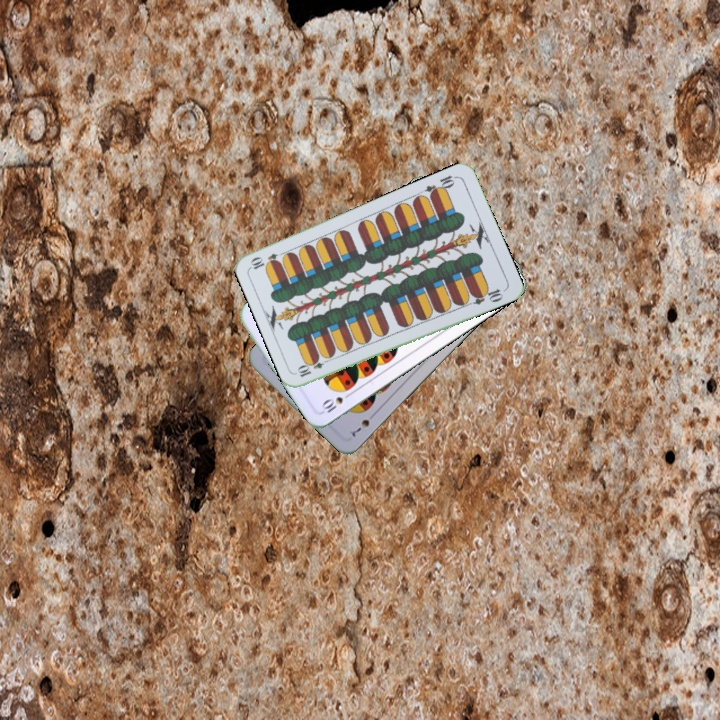E10: (421, 171, 460, 200), (293, 354, 333, 380)
S10: (317, 388, 355, 417)
S7: (347, 408, 379, 440)
